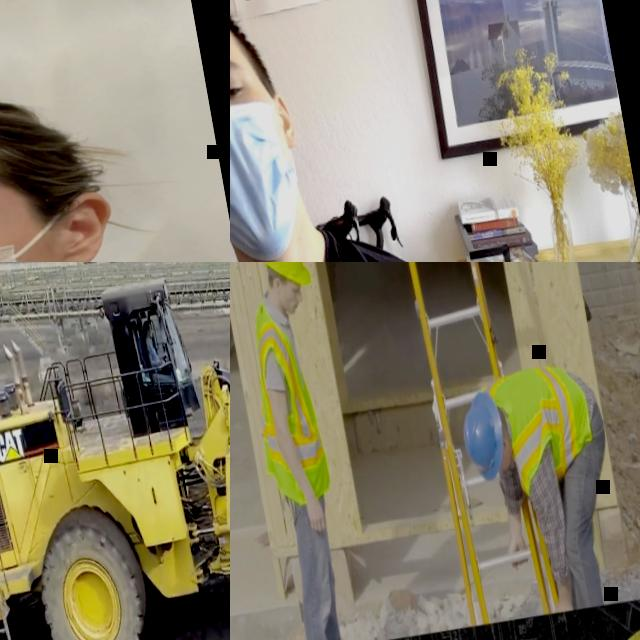Hardhat: (456, 387, 511, 483), (255, 262, 312, 293)
Mask: (230, 91, 313, 262)
NO-Hardhat: (0, 66, 77, 217), (142, 319, 151, 329)
NO-Mask: (284, 291, 300, 314), (502, 450, 514, 471), (148, 329, 154, 337)
NO-Safety Vest: (146, 341, 158, 363)
Person: (230, 0, 527, 262), (0, 40, 230, 262), (230, 262, 365, 640), (454, 352, 636, 620), (140, 316, 170, 373)
Safety Vest: (236, 291, 334, 508), (488, 357, 600, 499)
vehicle: (0, 262, 230, 640)
